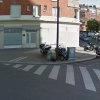Crosswalk: (9, 53, 99, 94)
